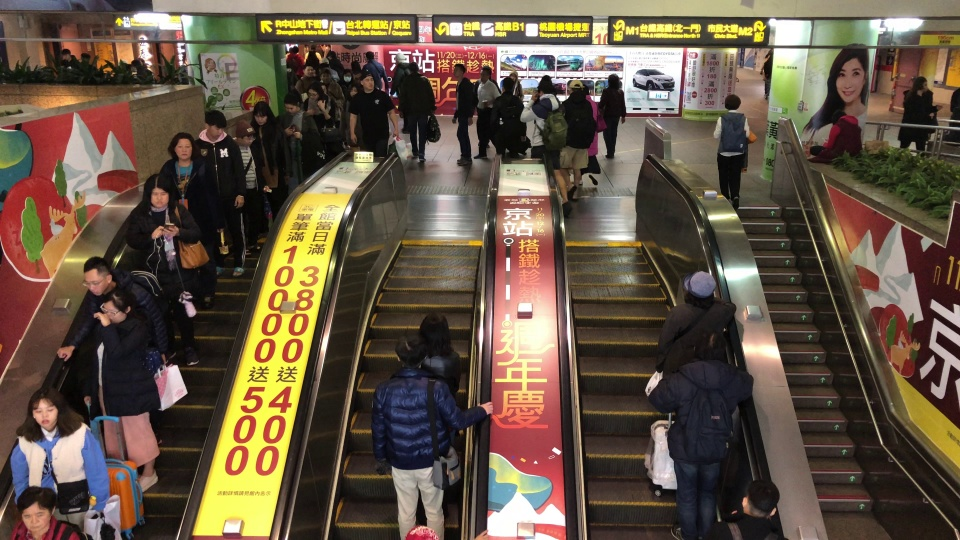person_head: (15, 484, 56, 534), (738, 479, 781, 521), (92, 290, 137, 327), (80, 255, 118, 297), (689, 325, 730, 363), (142, 173, 179, 215), (24, 389, 60, 430), (419, 313, 452, 355), (393, 332, 427, 369), (681, 269, 715, 304), (199, 110, 227, 143), (167, 133, 195, 163), (235, 120, 256, 146), (251, 102, 273, 125), (283, 92, 302, 113), (722, 94, 742, 113), (910, 75, 930, 93), (831, 109, 848, 126), (450, 62, 466, 80), (606, 72, 621, 88), (537, 81, 552, 96), (361, 74, 375, 90), (478, 67, 492, 82), (568, 78, 583, 92), (501, 76, 513, 93), (393, 52, 408, 65), (307, 86, 321, 99), (407, 62, 421, 74), (350, 60, 362, 73), (321, 70, 332, 82), (131, 59, 142, 70), (61, 48, 71, 60), (80, 51, 90, 63), (303, 66, 315, 76), (116, 58, 129, 67), (138, 56, 147, 69), (582, 84, 591, 97), (506, 71, 519, 79), (290, 45, 299, 54), (366, 52, 375, 61), (768, 55, 773, 62)
person_vbox: (370, 333, 493, 535), (58, 255, 175, 444), (656, 324, 751, 539), (75, 289, 168, 492), (124, 173, 203, 366), (9, 388, 114, 532), (158, 132, 218, 304), (192, 109, 251, 278), (653, 269, 733, 373), (519, 80, 572, 214), (229, 119, 272, 256), (709, 94, 757, 207), (705, 478, 783, 540), (9, 483, 93, 540), (251, 103, 292, 219), (556, 78, 595, 192), (277, 91, 320, 194), (401, 60, 441, 163), (416, 312, 462, 401), (351, 74, 398, 153), (897, 75, 943, 154), (446, 61, 478, 165), (489, 76, 528, 159), (806, 109, 863, 165), (580, 82, 608, 186), (596, 72, 628, 160), (473, 66, 501, 161), (389, 50, 416, 135), (305, 88, 340, 133), (363, 51, 390, 89), (503, 70, 526, 104), (318, 72, 343, 99), (285, 45, 305, 77), (761, 54, 774, 100), (297, 64, 319, 90), (59, 48, 80, 70), (79, 50, 97, 72)
